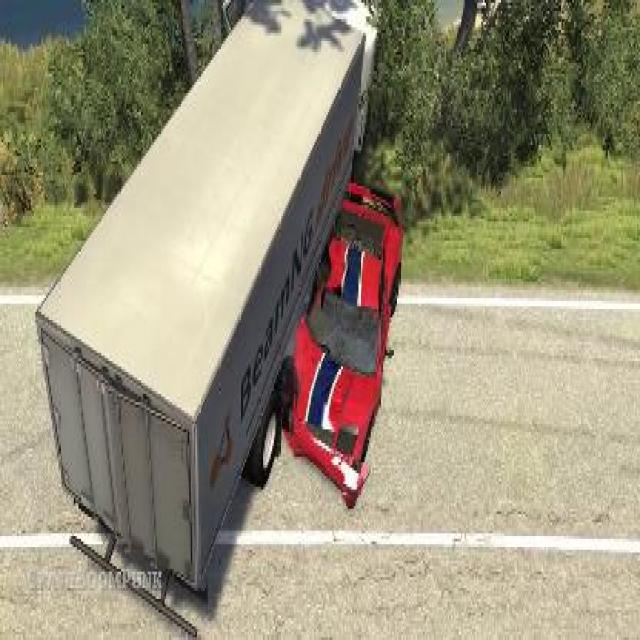accident: (31, 0, 411, 629)
